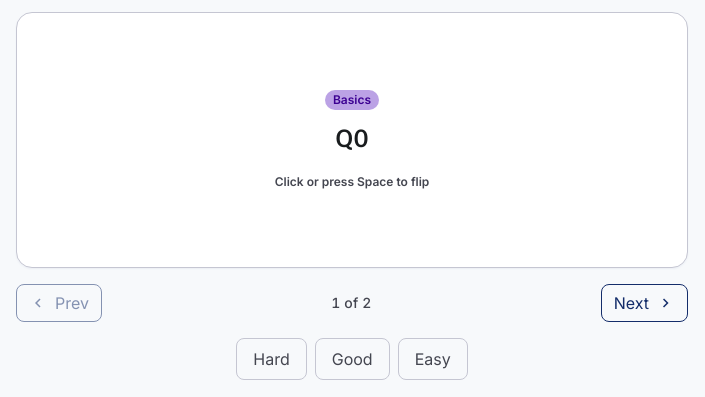
Test case: FlashcardsViewer › Space flips and reaching the last card completes the deck
expect the text "Q0" is shown: met, box [335,122,369,154]
Type keys " "
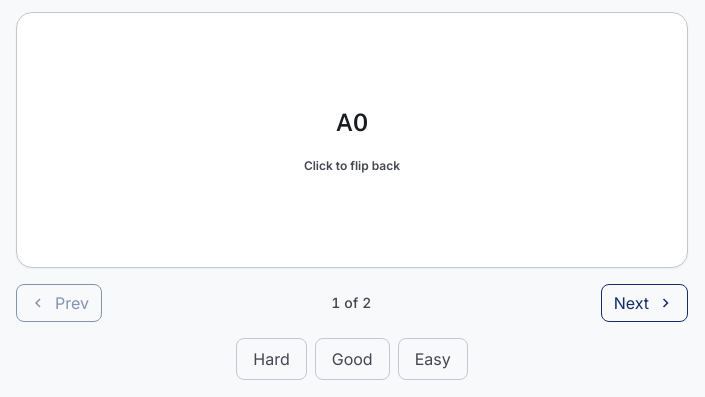
expect the text "A0" is shown: met, box [336,106,368,138]
Click the button with test id "btn-fc3": [644, 303] box [601,284,688,322]
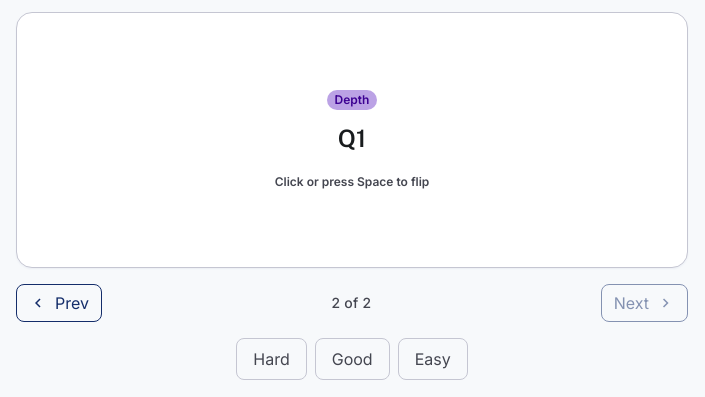
expect the text "2 of 2" is shown: met, box [331,293,372,313]
